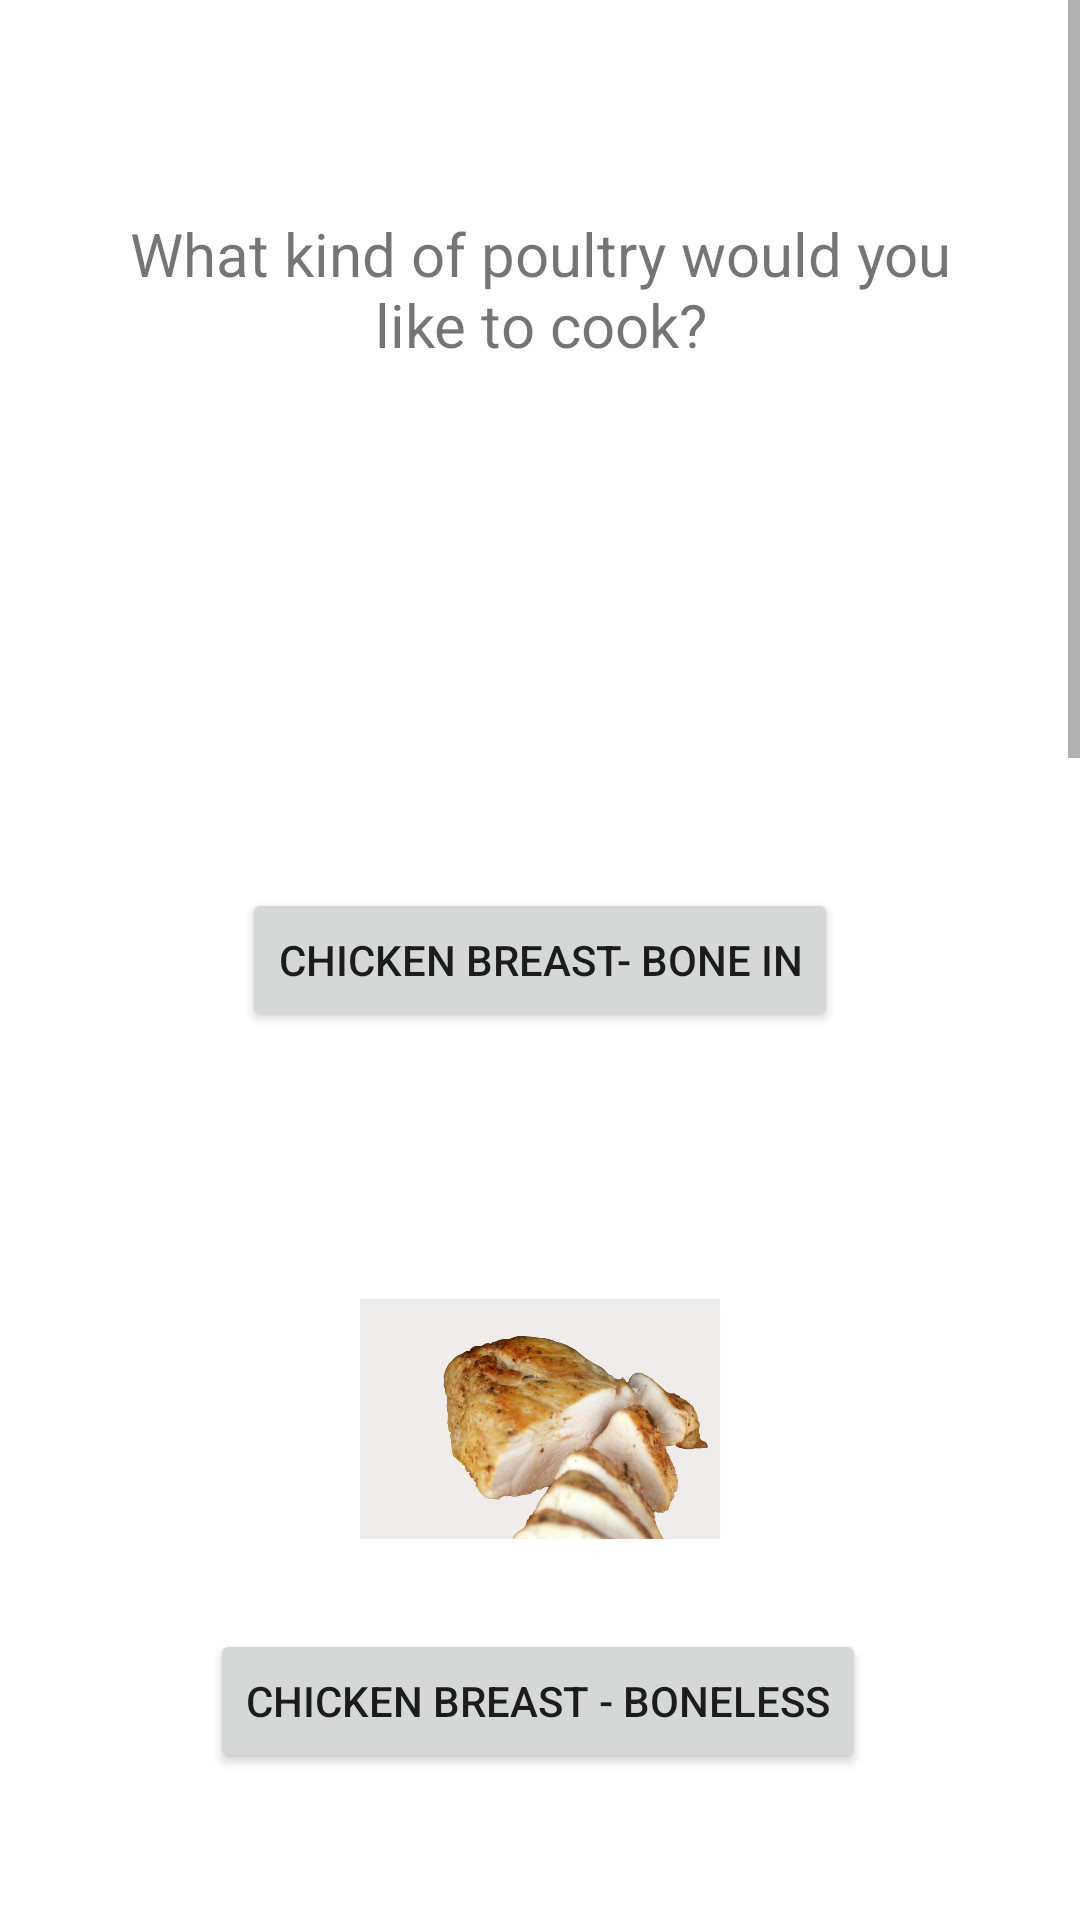

Icon click points for this 1080w x 1920h phone screenshot, format point (x, y):
bonelessbreast: point (575, 1437)
